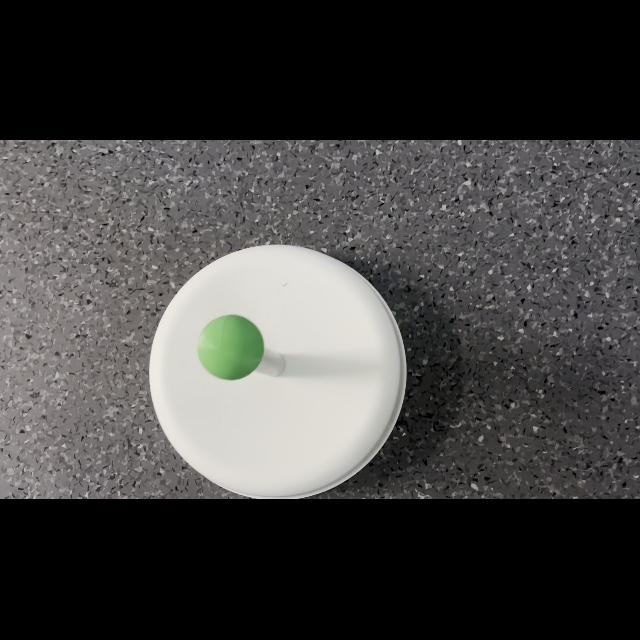objects: (195, 310, 268, 386)
